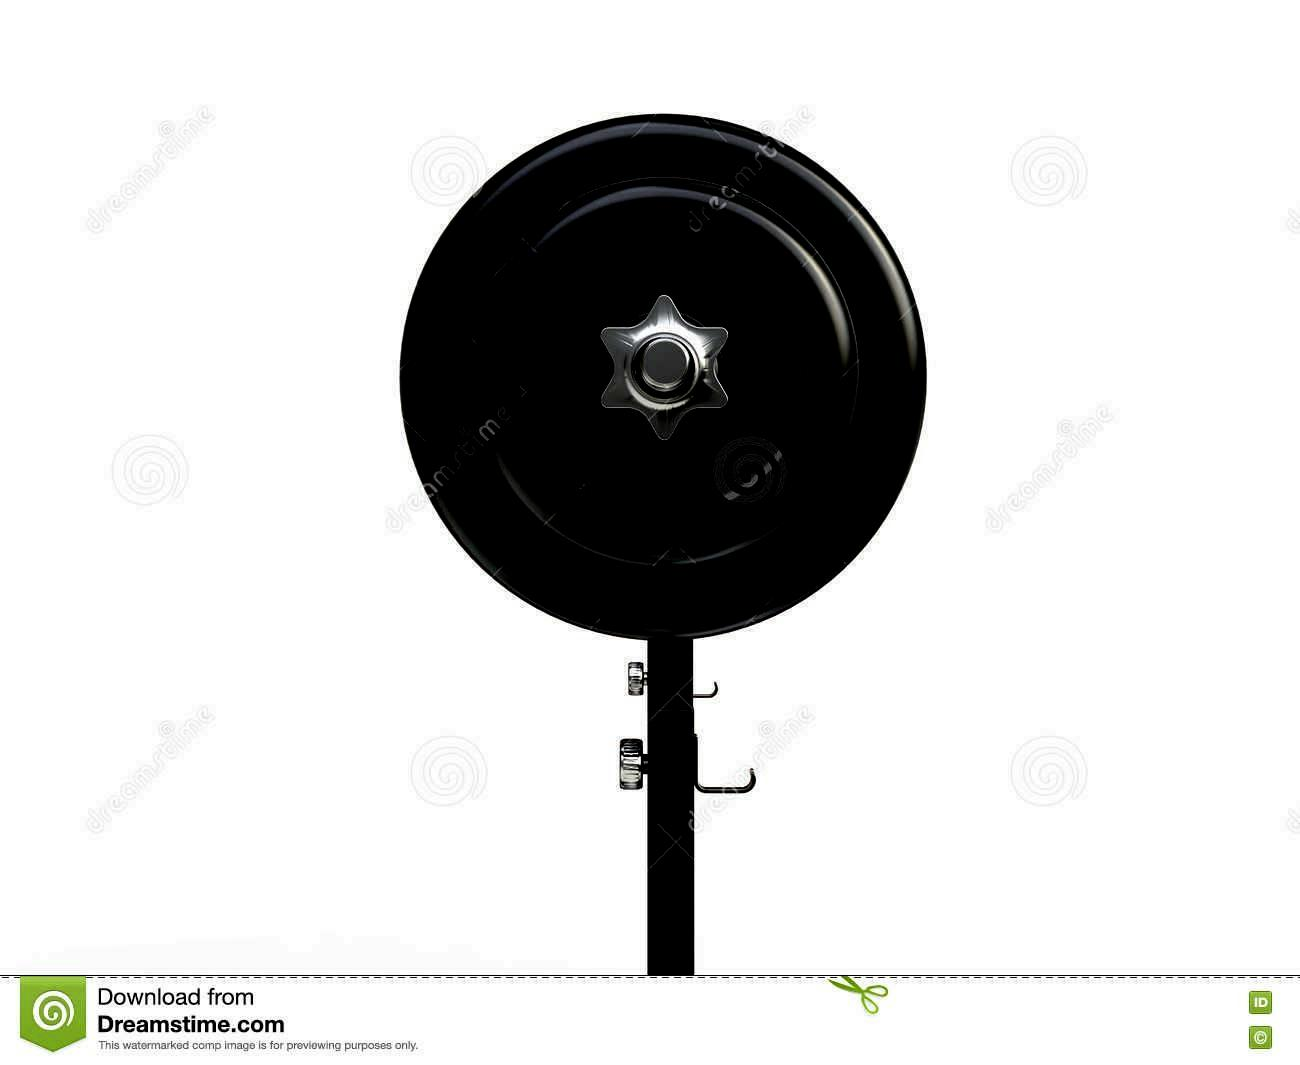Barbell: (563, 273, 751, 463)
